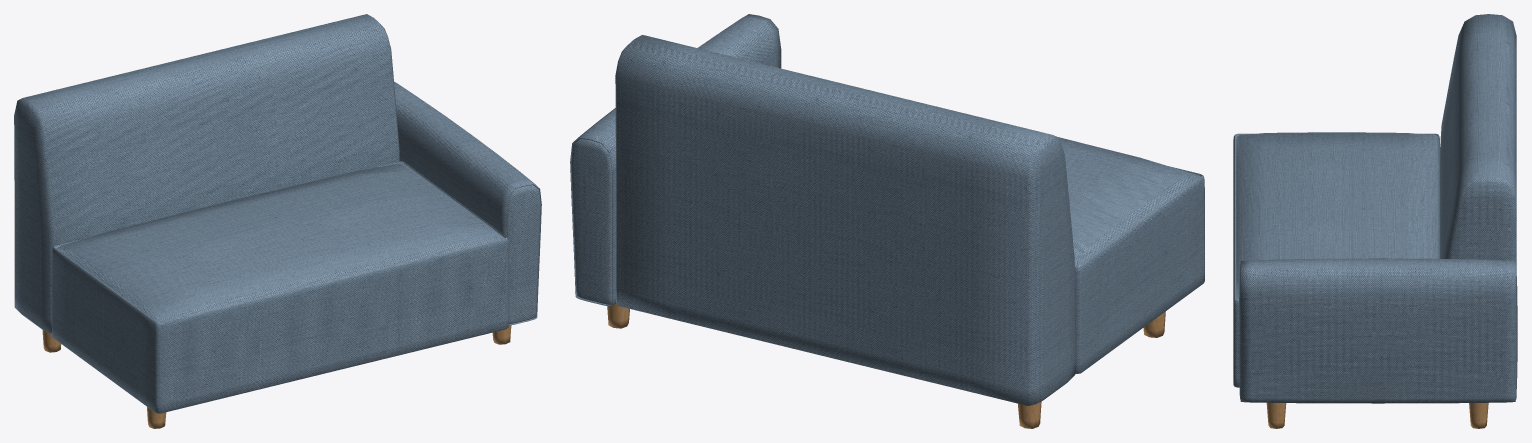
File: design4.obj
3 renders of one model, left to right at view 1: azimuth 30°, elevation 25°; view 2: azimuth 150°, elevation 25°; view 3: azimuth 270°, elevation 25°, orthographic. The views are drawn at different scales.
Visible parts, largest first — view 1: Box014, Object003, Object001, Box015; view 2: Object003, Box014, Object001, Box015; view 3: Object001, Box014, Object003, Box015.
Boxes of the visible parts, x1,y1,x2,y2 form: Box014: (52,161,508,413); Object003: (14,14,399,333); Object001: (394,81,541,325); Box015: (42,325,511,428); Object003: (615,35,1075,405); Box014: (1058,137,1204,373); Object001: (570,14,781,306); Box015: (607,303,1165,428); Object001: (1239,258,1517,403); Box014: (1233,132,1440,387); Object003: (1440,14,1516,267); Box015: (1266,403,1488,428).
Size of the model in its own units: 1217 by 737 by 789.
Materials: 2 (2 with a texture image).
